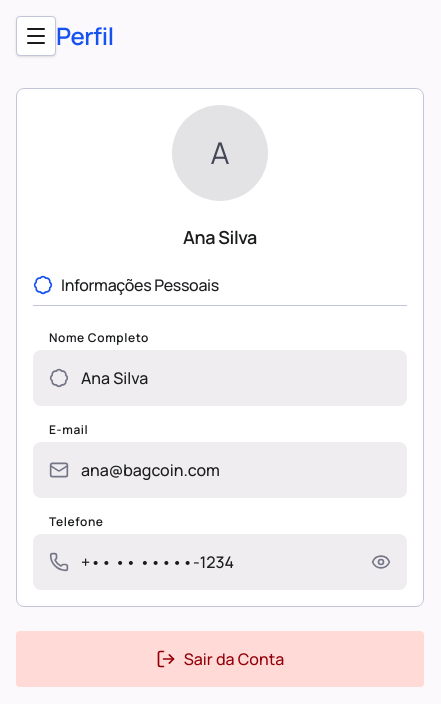
Test case: PerfilPage › inicia com telefone escondido e permite alternar visibilidade
The width and height of the screenshot is (441, 704).
Check: the field named "Telefone" holds "+•• •• •••••-1234", box [33,534,407,590]
Click the button named "Mostrar telefone": (381, 562) [371,552,391,572]
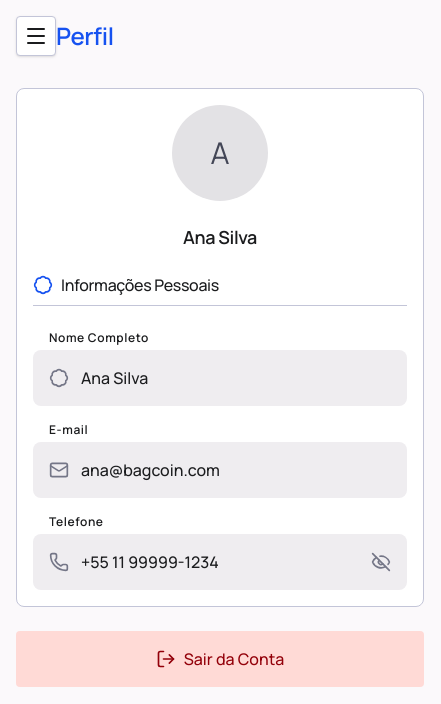
Check: the field named "Telefone" holds "+55 11 99999-1234", box [33,534,407,590]
